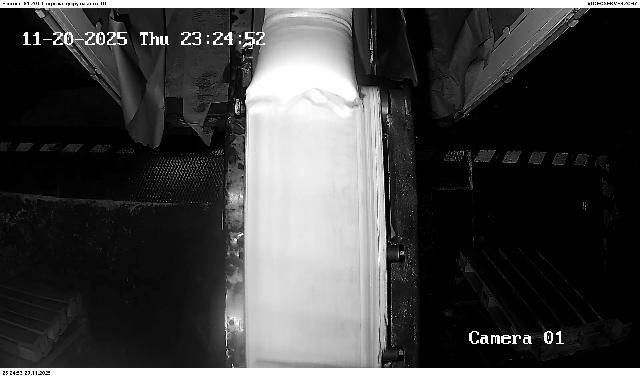bag: (246, 8, 363, 107)
